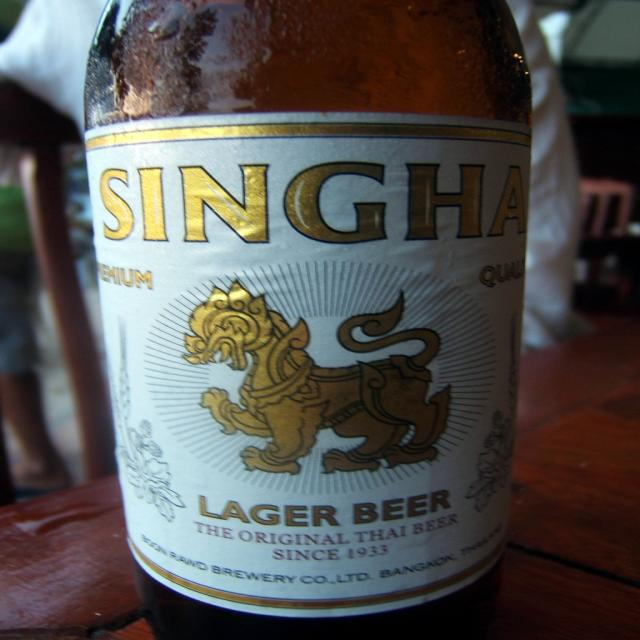singha: (83, 124, 531, 610)
